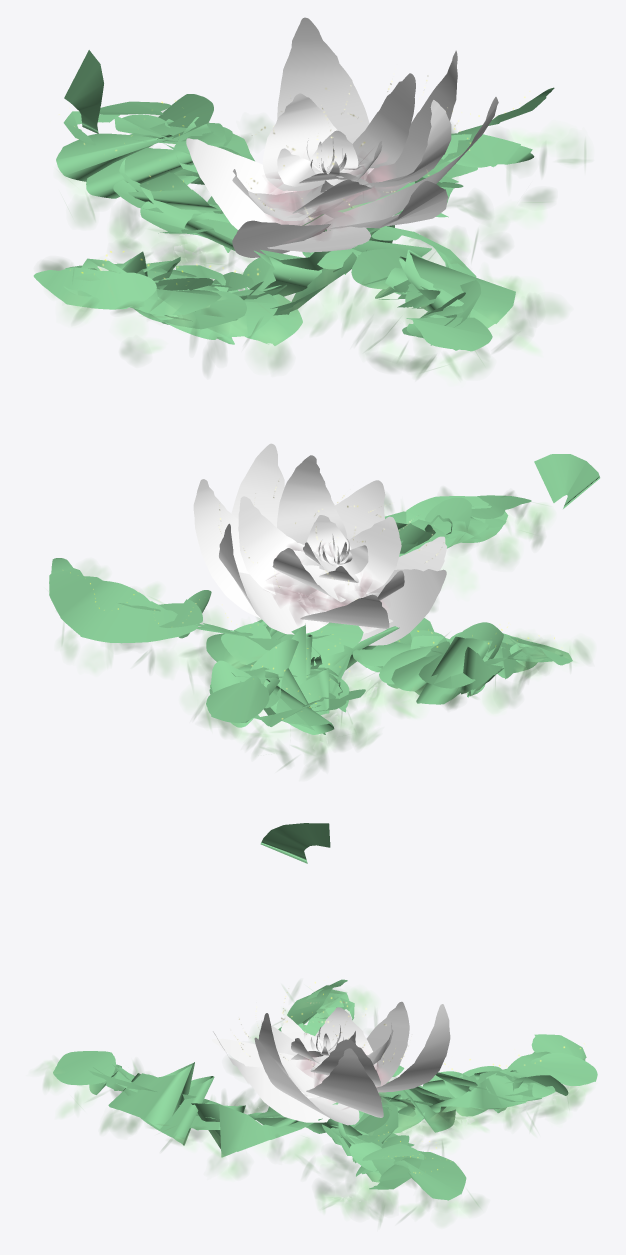
The model's file is lotus_flower.glb.
3 views of the same model, one above another, from view 1: azimuth 30°, elevation 25°; view 2: azimuth 150°, elevation 25°; view 3: azimuth 270°, elevation 25° (orthographic). The views are drawn at different scales.
Visible parts, largest first — view 1: brush_TaperedHueShift_g0_b0_0, brush_Smoke_g0_b0_5, brush_Digital_g0_b0_3; view 2: brush_TaperedHueShift_g0_b0_0, brush_Smoke_g0_b0_5, brush_Digital_g0_b0_3; view 3: brush_TaperedHueShift_g0_b0_0, brush_Smoke_g0_b0_5, brush_Digital_g0_b0_3.
Part boxes in pixels (x1,y1,x2,y2): brush_TaperedHueShift_g0_b0_0: (33, 17, 554, 351); brush_Smoke_g0_b0_5: (39, 110, 589, 379); brush_Digital_g0_b0_3: (64, 50, 103, 133); brush_TaperedHueShift_g0_b0_0: (49, 443, 572, 734); brush_Smoke_g0_b0_5: (58, 488, 592, 775); brush_Digital_g0_b0_3: (534, 454, 600, 508); brush_TaperedHueShift_g0_b0_0: (53, 979, 597, 1200); brush_Smoke_g0_b0_5: (35, 982, 591, 1225); brush_Digital_g0_b0_3: (260, 823, 330, 863).
Size of the model in its own units: 12.94 by 6.83 by 13.8.
Materials: 5 (4 with a texture image).
